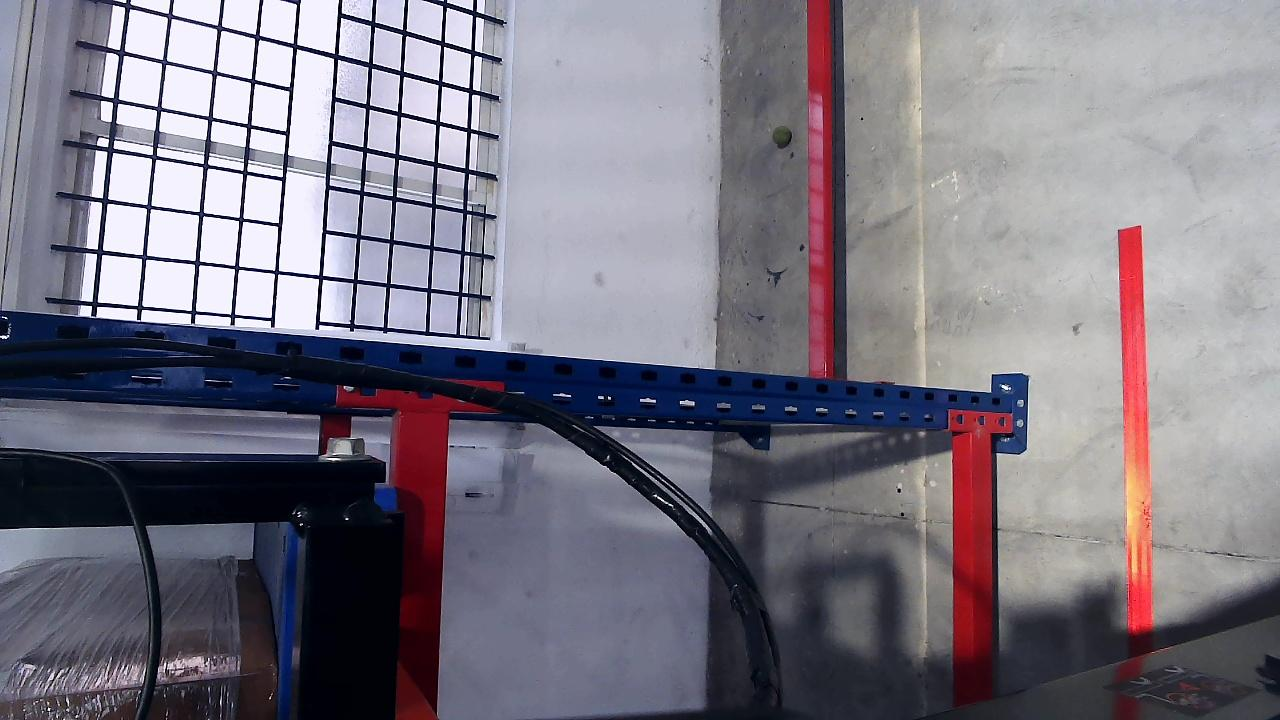h_rack: (398, 408, 451, 718), (955, 432, 994, 710), (811, 2, 835, 377)
red_line: (1117, 226, 1151, 628)
